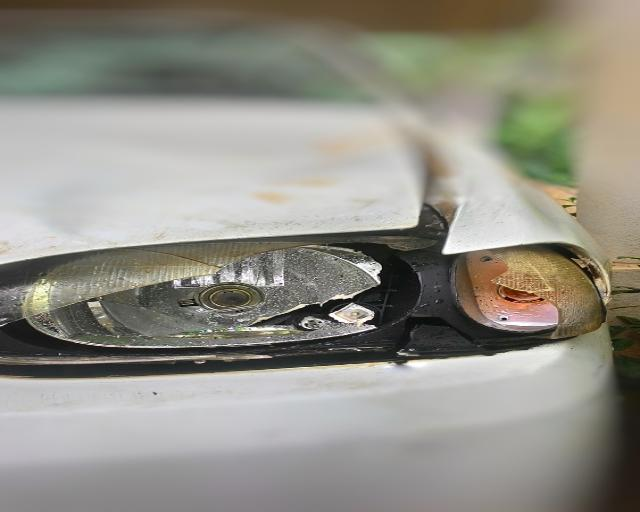lamp broken: (0, 234, 607, 362)
